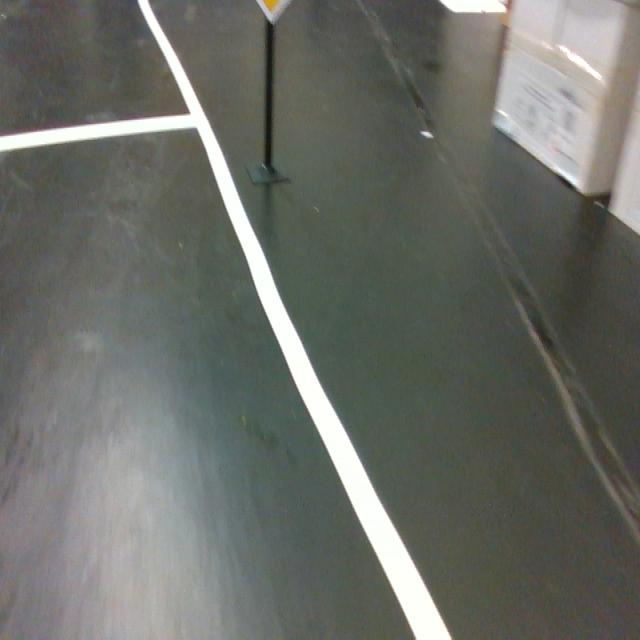priority-sign: (253, 0, 292, 26)
